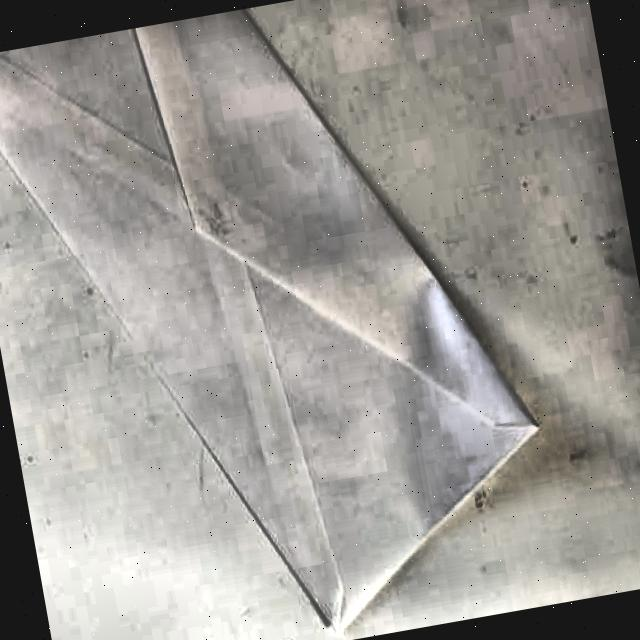paper: (0, 0, 542, 588)
